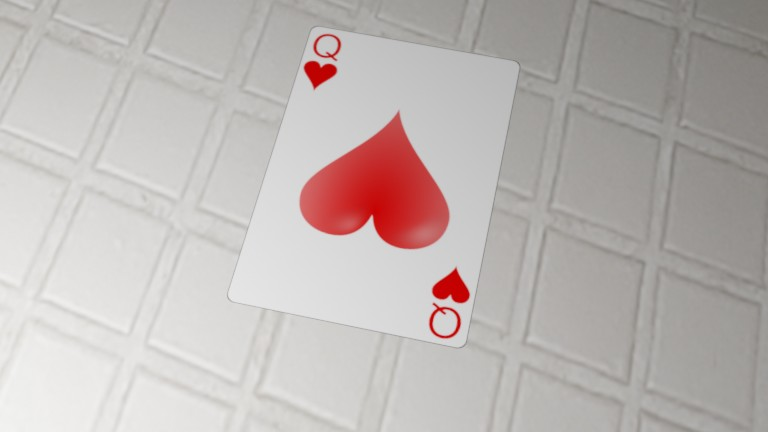queen_of_hearts: (168, 104, 191, 137), (118, 12, 140, 38)
